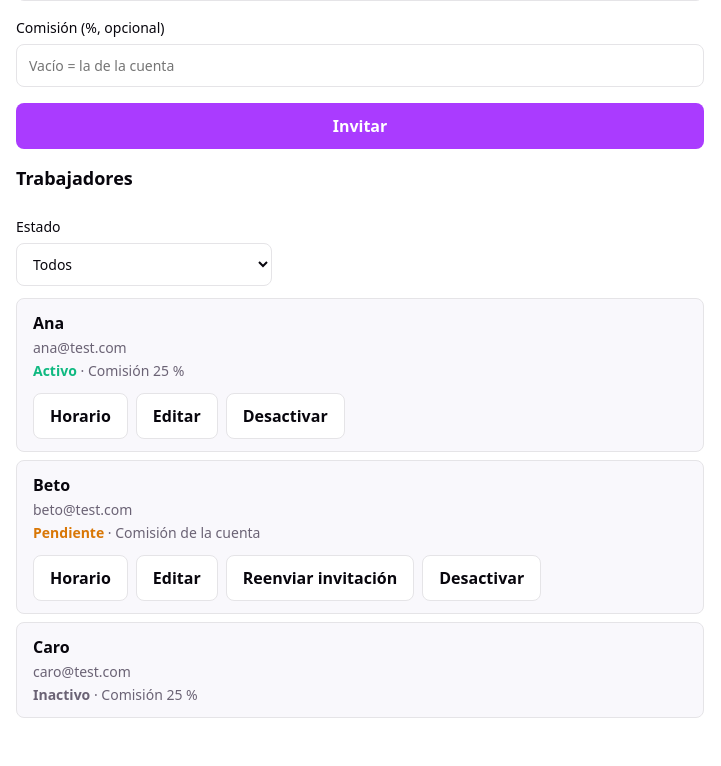
RF-13: "Reenviar invitación" solo aparece en pendientes y muestra el enlace nuevo
This screenshot has width=721, height=766.
(page scrolled)
expect the text "Ana" is shown: met, box [33, 312, 64, 334]
Step 1. Click the button with aria-label "Reenviar invitación a Beto" → (320, 578), box [226, 555, 414, 601]
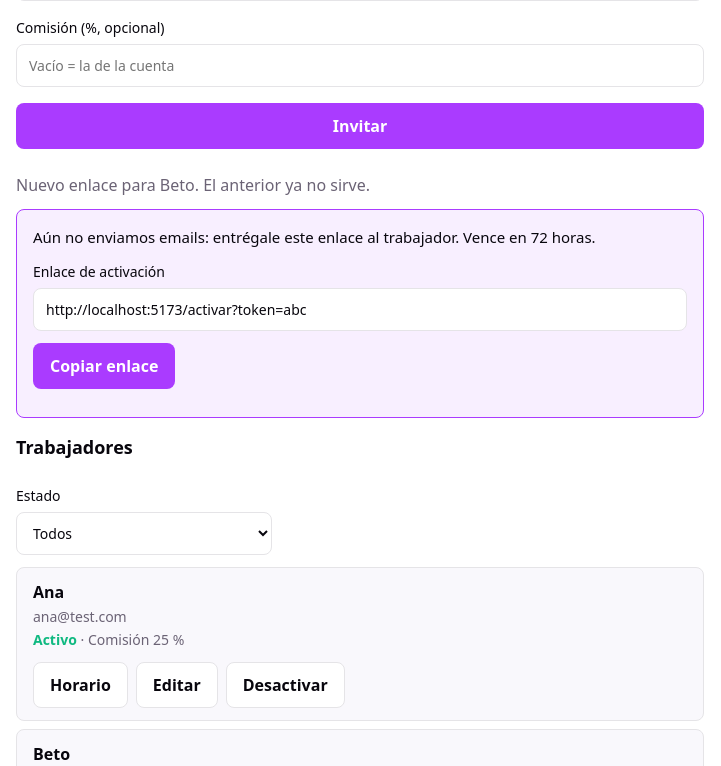
expect the field labelled "Enlace de activación" holds "http://localhost:5173/activar?token=abc": met, box [33, 288, 687, 330]
